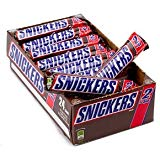snickers: (74, 90, 137, 122), (9, 42, 42, 90), (38, 46, 90, 68), (25, 26, 73, 49), (97, 45, 132, 76), (48, 55, 101, 74), (18, 17, 65, 38), (53, 76, 115, 91), (32, 38, 81, 56), (53, 76, 116, 87), (48, 69, 98, 74)
